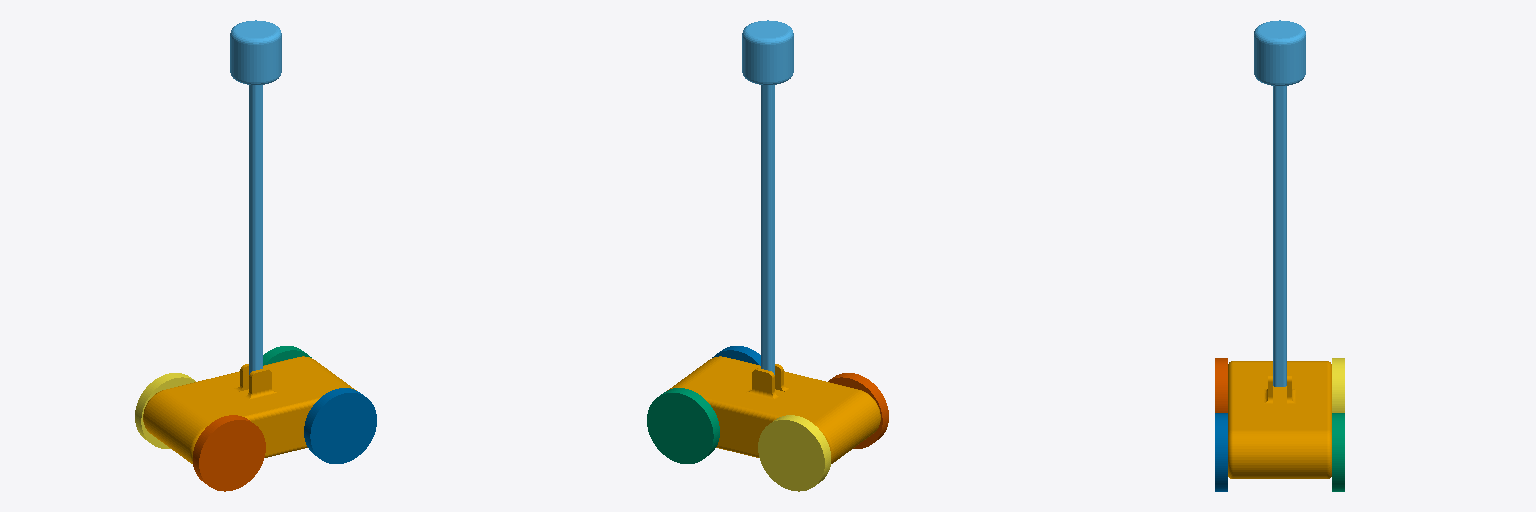
robot.urdf — flagpole:
<?xml version="1.0" ?>
<robot name="flagpole">

  <!-- ========================
       BASE LINK
  ========================= -->
  <link name="base_link">
    <inertial>
      <origin xyz="-0.2916666666666668 8.100670728132436e-18 0.02196616591181604" rpy="0 0 0"/>
      <mass value="17.627017931053384"/>
      <inertia ixx="0.032096" iyy="0.100153" izz="0.1195" ixy="0.0" iyz="0.0" ixz="-0.0"/>
    </inertial>
    <visual>
      <origin xyz="0 0 0" rpy="0 0 0"/>
      <geometry>
        <mesh filename="meshes/base_link.stl" scale="0.001 0.001 0.001"/>
      </geometry>
      <material name="silver"/>
    </visual>
    <collision>
      <origin xyz="0 0 0" rpy="0 0 0"/>
      <geometry>
        <mesh filename="meshes/base_link.stl" scale="0.001 0.001 0.001"/>
      </geometry>
    </collision>
  </link>

  <!-- ========================
       POLE LINK
  ========================= -->
  <link name="pole_1">
    <inertial>
      <origin xyz="3.3333333299134793e-07 -0.008332999999999991 0.3849880544949187" rpy="0 0 0"/>
      <mass value="2.6687236447362888"/>
      <inertia ixx="0.05149" iyy="0.05149" izz="0.00102" ixy="-0.0" iyz="-0.0" ixz="-0.0"/>
    </inertial>
    <visual>
      <origin xyz="0.291667 -0.008333 -0.071667" rpy="0 0 0"/>
      <geometry>
        <mesh filename="meshes/pole_1.stl" scale="0.001 0.001 0.001"/>
      </geometry>
      <material name="silver"/>
    </visual>
    <collision>
      <origin xyz="0.291667 -0.008333 -0.071667" rpy="0 0 0"/>
      <geometry>
        <mesh filename="meshes/pole_1.stl" scale="0.001 0.001 0.001"/>
      </geometry>
    </collision>
  </link>

  <!-- ========================
       TOP-LEFT WHEEL LINK
  ========================= -->
  <link name="tl_wheel_1">
    <inertial>
      <origin xyz="-3.33333333379926e-07 0.008332999999999993 1.5612511283791264e-17" rpy="0 0 0"/>
      <mass value="1.0275625971116613"/>
      <inertia ixx="0.000666" iyy="0.001284" izz="0.000666" ixy="-0.0" iyz="-0.0" ixz="-0.0"/>
    </inertial>
    <visual>
      <origin xyz="0.208333 -0.066667 -0.015" rpy="0 0 0"/>
      <geometry>
        <mesh filename="meshes/tl_wheel_1.stl" scale="0.001 0.001 0.001"/>
      </geometry>
      <material name="silver"/>
    </visual>
    <collision>
      <origin xyz="0.208333 -0.066667 -0.015" rpy="0 0 0"/>
      <geometry>
        <mesh filename="meshes/tl_wheel_1.stl" scale="0.001 0.001 0.001"/>
      </geometry>
    </collision>
  </link>

  <!-- ========================
       BOTTOM-LEFT WHEEL LINK
  ========================= -->
  <link name="bl_wheel_1">
    <inertial>
      <origin xyz="-5.551115123125783e-17 0.008332999999999993 0.0" rpy="0 0 0"/>
      <mass value="1.0275625971116613"/>
      <inertia ixx="0.000666" iyy="0.001284" izz="0.000666" ixy="0.0" iyz="0.0" ixz="0.0"/>
    </inertial>
    <visual>
      <origin xyz="0.375 -0.066667 -0.015" rpy="0 0 0"/>
      <geometry>
        <mesh filename="meshes/bl_wheel_1.stl" scale="0.001 0.001 0.001"/>
      </geometry>
      <material name="silver"/>
    </visual>
    <collision>
      <origin xyz="0.375 -0.066667 -0.015" rpy="0 0 0"/>
      <geometry>
        <mesh filename="meshes/bl_wheel_1.stl" scale="0.001 0.001 0.001"/>
      </geometry>
    </collision>
  </link>

  <!-- ========================
       TOP-RIGHT WHEEL LINK
  ========================= -->
  <link name="tr_wheel_1">
    <inertial>
      <origin xyz="-3.33333333379926e-07 -0.008332999999999993 -1.0408340855860843e-17" rpy="0 0 0"/>
      <mass value="1.0275625971116613"/>
      <inertia ixx="0.000666" iyy="0.001284" izz="0.000666" ixy="0.0" iyz="0.0" ixz="-0.0"/>
    </inertial>
    <visual>
      <origin xyz="0.208333 0.066667 -0.015" rpy="0 0 0"/>
      <geometry>
        <mesh filename="meshes/tr_wheel_1.stl" scale="0.001 0.001 0.001"/>
      </geometry>
      <material name="silver"/>
    </visual>
    <collision>
      <origin xyz="0.208333 0.066667 -0.015" rpy="0 0 0"/>
      <geometry>
        <mesh filename="meshes/tr_wheel_1.stl" scale="0.001 0.001 0.001"/>
      </geometry>
    </collision>
  </link>

  <!-- ========================
       BOTTOM-RIGHT WHEEL LINK
  ========================= -->
  <link name="br_wheel_1">
    <inertial>
      <origin xyz="-5.551115123125783e-17 -0.008332999999999993 0.0" rpy="0 0 0"/>
      <mass value="1.0275625971116613"/>
      <inertia ixx="0.000666" iyy="0.001284" izz="0.000666" ixy="0.0" iyz="-0.0" ixz="0.0"/>
    </inertial>
    <visual>
      <origin xyz="0.375 0.066667 -0.015" rpy="0 0 0"/>
      <geometry>
        <mesh filename="meshes/br_wheel_1.stl" scale="0.001 0.001 0.001"/>
      </geometry>
      <material name="silver"/>
    </visual>
    <collision>
      <origin xyz="0.375 0.066667 -0.015" rpy="0 0 0"/>
      <geometry>
        <mesh filename="meshes/br_wheel_1.stl" scale="0.001 0.001 0.001"/>
      </geometry>
    </collision>
  </link>


  <!-- ========================
       JOINTS
  ========================

       The pole (or cart) joint is now limited to ±50° (±0.87266 rad).
  -->

  <!-- Joint for the flag pole (or cart steering) now has angle limits. -->
  <joint name="pole_base_joint" type="revolute">
    <origin xyz="-0.291667 0.008333 0.071667" rpy="0 0 0"/>
    <parent link="base_link"/>
    <child link="pole_1"/>
    <axis xyz="0.0 1.0 0.0"/>
    <limit lower="-0.87266" upper="0.87266" effort="10.0" velocity="1.0"/>
  </joint>

  <!-- All wheels share the same axis: (0 1 0) so they spin in parallel. -->

  <joint name="tl_base_joint" type="continuous">
    <origin xyz="-0.208333 0.066667 0.015" rpy="0 0 0"/>
    <parent link="base_link"/>
    <child link="tl_wheel_1"/>
    <axis xyz="0.0 1.0 0.0"/>
  </joint>

  <joint name="bl_base_joint" type="continuous">
    <origin xyz="-0.375 0.066667 0.015" rpy="0 0 0"/>
    <parent link="base_link"/>
    <child link="bl_wheel_1"/>
    <axis xyz="0.0 1.0 0.0"/>
  </joint>

  <joint name="tr_base_joint" type="continuous">
    <origin xyz="-0.208333 -0.066667 0.015" rpy="0 0 0"/>
    <parent link="base_link"/>
    <child link="tr_wheel_1"/>
    <axis xyz="0.0 1.0 0.0"/>
  </joint>

  <joint name="br_base_joint" type="continuous">
    <origin xyz="-0.375 -0.066667 0.015" rpy="0 0 0"/>
    <parent link="base_link"/>
    <child link="br_wheel_1"/>
    <axis xyz="0.0 1.0 0.0"/>
  </joint>

</robot>

--- What the picture shows (computed from the rendered views, not written in the file) ---
The picture shows the robot from 3 angles, left to right: view 1: azimuth 30°, elevation 25°; view 2: azimuth 150°, elevation 25°; view 3: azimuth 270°, elevation 25°; orthographic projection.
Robot: flagpole — 6 links, 5 joints (1 revolute, 4 continuous); root link base_link; default pose: all joints at 0.
Links seen in each view (by area): view 1: base_link, pole_1, br_wheel_1, tr_wheel_1, bl_wheel_1, tl_wheel_1; view 2: base_link, pole_1, bl_wheel_1, tl_wheel_1, br_wheel_1, tr_wheel_1; view 3: base_link, pole_1, tl_wheel_1, tr_wheel_1, bl_wheel_1, br_wheel_1.
Link boxes in pixels (bbox=[...]): base_link: bbox=[143, 356, 356, 463]; pole_1: bbox=[230, 20, 281, 374]; br_wheel_1: bbox=[193, 415, 265, 491]; tr_wheel_1: bbox=[304, 388, 376, 463]; bl_wheel_1: bbox=[135, 373, 195, 448]; tl_wheel_1: bbox=[263, 346, 311, 365]; base_link: bbox=[667, 356, 880, 463]; pole_1: bbox=[742, 20, 793, 374]; bl_wheel_1: bbox=[758, 415, 830, 491]; tl_wheel_1: bbox=[647, 388, 719, 463]; br_wheel_1: bbox=[828, 373, 888, 448]; tr_wheel_1: bbox=[712, 346, 760, 365]; base_link: bbox=[1228, 361, 1331, 478]; pole_1: bbox=[1254, 20, 1305, 386]; tl_wheel_1: bbox=[1332, 413, 1344, 491]; tr_wheel_1: bbox=[1215, 413, 1227, 491]; bl_wheel_1: bbox=[1332, 358, 1344, 412]; br_wheel_1: bbox=[1215, 358, 1227, 412].
Size in the robot's own frame: 0.2666 by 0.1667 by 0.6067 metres.
6 mesh visuals loaded from 6 distinct referenced files (6 binary STL).